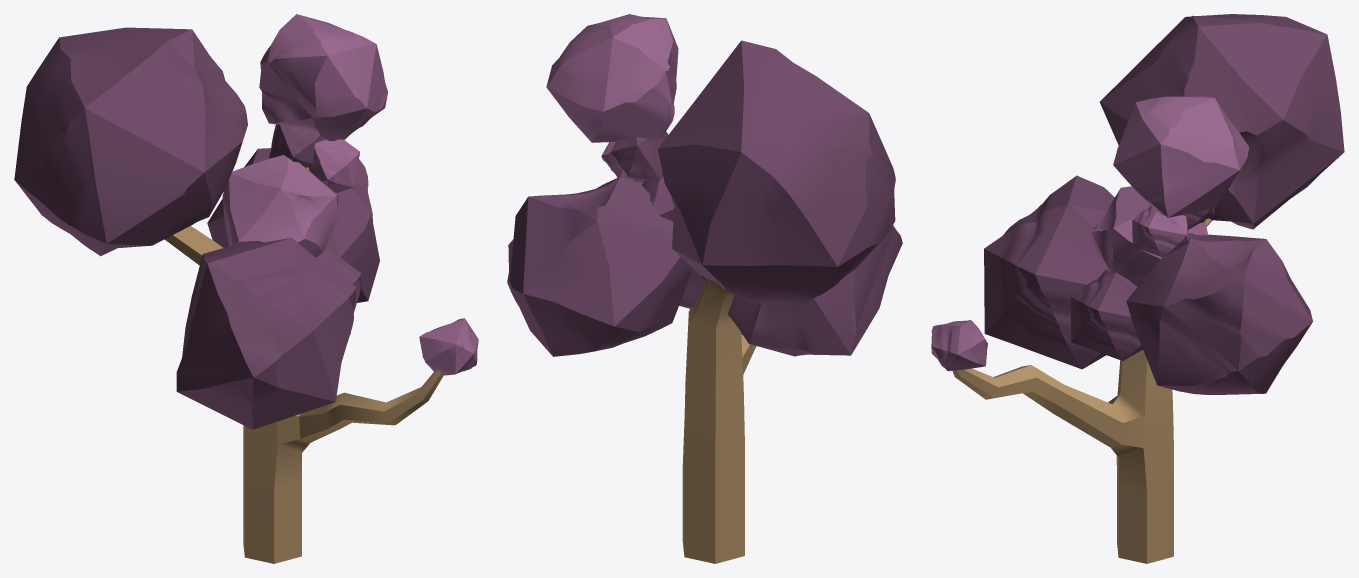
The model's file is SM_Tree_2.fbx.
The picture shows the model from 3 angles, left to right: view 1: azimuth 30°, elevation 25°; view 2: azimuth 150°, elevation 25°; view 3: azimuth 270°, elevation 25°; orthographic projection. The views are drawn at different scales.
Parts seen in each view (by area): view 1: polySurface23; view 2: polySurface23; view 3: polySurface23.
Boxes of the visible parts, box(x1,y1,x2,y2) form: polySurface23: box(14, 14, 478, 563); polySurface23: box(507, 14, 902, 563); polySurface23: box(931, 14, 1344, 563).
Size of the model in its own units: 62.44 by 92.22 by 69.26.
